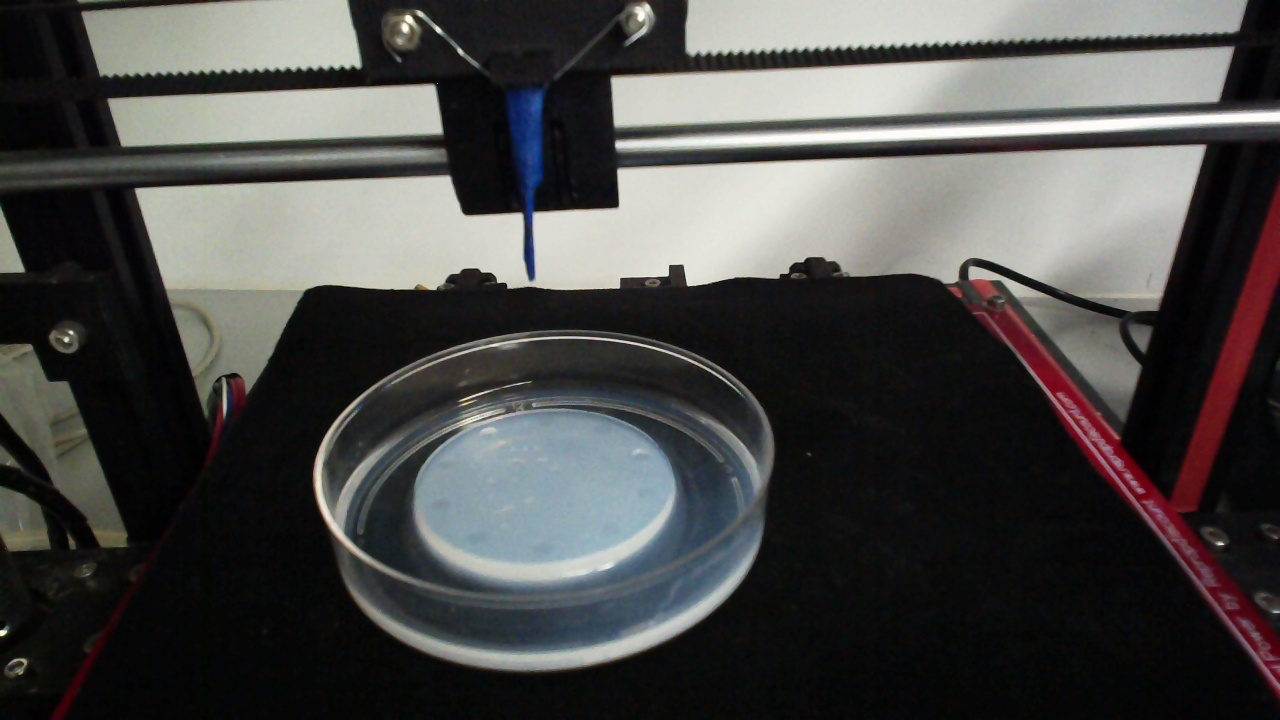groove: (529, 540, 555, 559), (427, 495, 451, 513), (629, 447, 654, 463), (465, 529, 487, 547), (589, 422, 615, 437), (599, 524, 622, 539), (435, 456, 456, 472), (535, 414, 556, 429), (636, 485, 658, 499), (477, 425, 497, 440)
needle: (509, 88, 542, 281)
